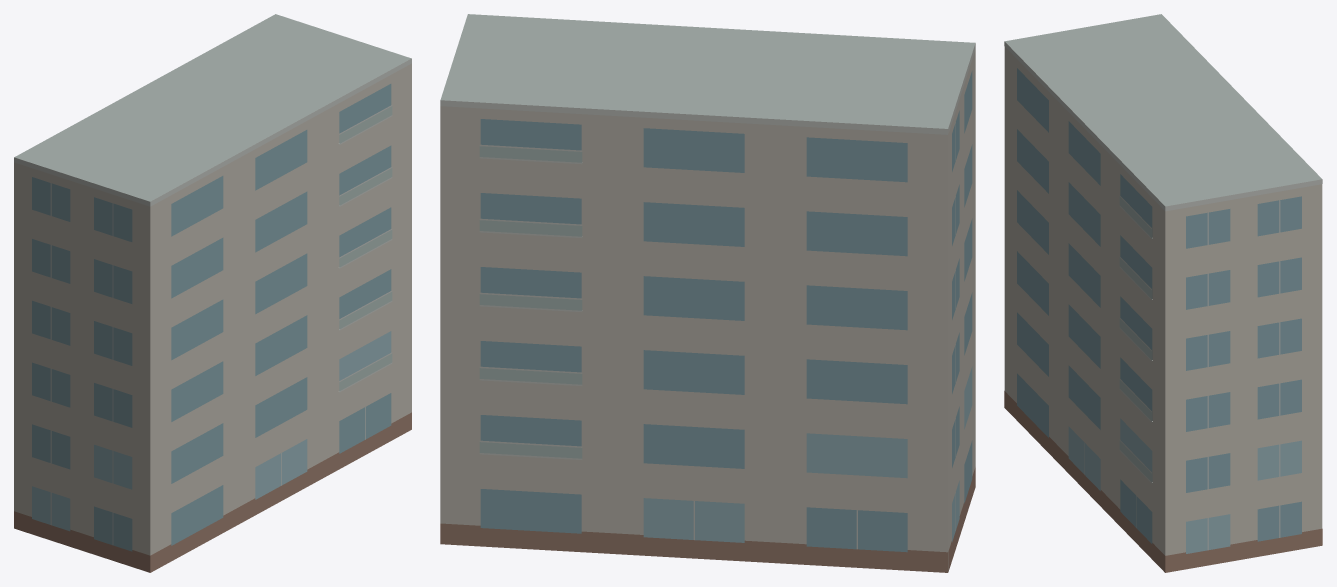
The model's file is survey-upis-32646185.glb.
3 views of the same model, side by side, from view 1: azimuth 30°, elevation 25°; view 2: azimuth 150°, elevation 25°; view 3: azimuth 270°, elevation 25° (orthographic). The views are drawn at different scales.
Visible parts, largest first — view 1: survey-upis-32646185.tmp; view 2: survey-upis-32646185.tmp; view 3: survey-upis-32646185.tmp.
Boxes of the visible parts, <box> form: survey-upis-32646185.tmp: <box>14,14,411,572</box>; survey-upis-32646185.tmp: <box>440,14,975,572</box>; survey-upis-32646185.tmp: <box>1004,14,1322,572</box>.
Size of the model in its own units: 20.63 by 18.3 by 14.41.
